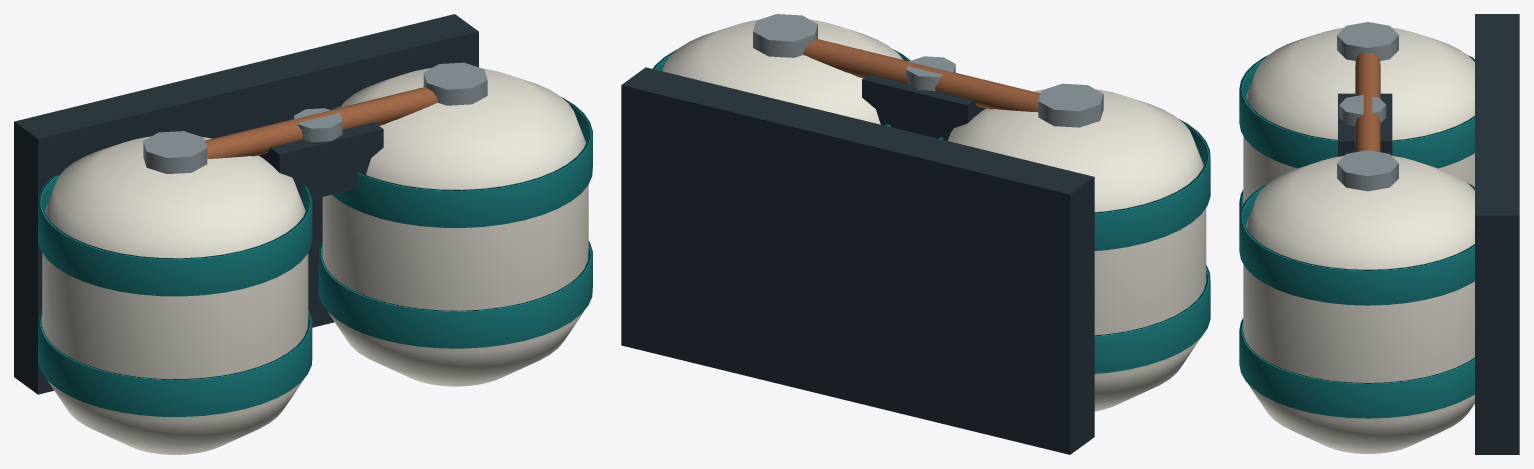
File: g_060_puls.glb
3 renders of one model, left to right at view 1: azimuth 30°, elevation 25°; view 2: azimuth 150°, elevation 25°; view 3: azimuth 270°, elevation 25°, orthographic. The views are drawn at different scales.
Parts seen in each view (by area): view 1: g_060_puls.vessel_01.mesh_JUGRE_·_bone_ceramic, g_060_puls.vessel_02.mesh_JUGRE_·_bone_ceramic, g_060_puls.mesh_JUGRE_·_graphite_composite, g_060_puls.vessel_01.mesh_JUGRE_·_signal_teal, g_060_puls.vessel_02.mesh_JUGRE_·_signal_teal, g_060_puls.mesh_JUGRE_·_heat-resistant_copper, g_060_puls.vessel_01.mesh_JUGRE_·_bead-blasted_titanium, g_060_puls.vessel_02.mesh_JUGRE_·_bead-blasted_titanium, g_060_puls.mesh_JUGRE_·_bead-blasted_titanium; view 2: g_060_puls.mesh_JUGRE_·_graphite_composite, g_060_puls.vessel_01.mesh_JUGRE_·_bone_ceramic, g_060_puls.vessel_02.mesh_JUGRE_·_bone_ceramic, g_060_puls.vessel_01.mesh_JUGRE_·_signal_teal, g_060_puls.mesh_JUGRE_·_heat-resistant_copper, g_060_puls.vessel_01.mesh_JUGRE_·_bead-blasted_titanium, g_060_puls.vessel_02.mesh_JUGRE_·_bead-blasted_titanium, g_060_puls.mesh_JUGRE_·_bead-blasted_titanium; view 3: g_060_puls.vessel_02.mesh_JUGRE_·_bone_ceramic, g_060_puls.mesh_JUGRE_·_graphite_composite, g_060_puls.vessel_01.mesh_JUGRE_·_bone_ceramic, g_060_puls.vessel_02.mesh_JUGRE_·_signal_teal, g_060_puls.vessel_01.mesh_JUGRE_·_signal_teal, g_060_puls.mesh_JUGRE_·_heat-resistant_copper, g_060_puls.vessel_02.mesh_JUGRE_·_bead-blasted_titanium, g_060_puls.vessel_01.mesh_JUGRE_·_bead-blasted_titanium, g_060_puls.mesh_JUGRE_·_bead-blasted_titanium.
Boxes of the visible parts, bbox=[...] form: g_060_puls.vessel_01.mesh_JUGRE_·_bone_ceramic: bbox=[42, 136, 308, 454]; g_060_puls.vessel_02.mesh_JUGRE_·_bone_ceramic: bbox=[322, 68, 588, 386]; g_060_puls.mesh_JUGRE_·_graphite_composite: bbox=[14, 14, 478, 394]; g_060_puls.vessel_01.mesh_JUGRE_·_signal_teal: bbox=[38, 175, 312, 416]; g_060_puls.vessel_02.mesh_JUGRE_·_signal_teal: bbox=[318, 97, 592, 348]; g_060_puls.mesh_JUGRE_·_heat-resistant_copper: bbox=[205, 87, 438, 158]; g_060_puls.vessel_01.mesh_JUGRE_·_bead-blasted_titanium: bbox=[143, 131, 207, 173]; g_060_puls.vessel_02.mesh_JUGRE_·_bead-blasted_titanium: bbox=[423, 62, 487, 105]; g_060_puls.mesh_JUGRE_·_bead-blasted_titanium: bbox=[294, 108, 342, 142]; g_060_puls.mesh_JUGRE_·_graphite_composite: bbox=[621, 67, 1094, 454]; g_060_puls.vessel_01.mesh_JUGRE_·_bone_ceramic: bbox=[947, 89, 1206, 411]; g_060_puls.vessel_02.mesh_JUGRE_·_bone_ceramic: bbox=[662, 19, 903, 124]; g_060_puls.vessel_01.mesh_JUGRE_·_signal_teal: bbox=[938, 119, 1210, 373]; g_060_puls.mesh_JUGRE_·_heat-resistant_copper: bbox=[803, 38, 1040, 112]; g_060_puls.vessel_01.mesh_JUGRE_·_bead-blasted_titanium: bbox=[1038, 83, 1103, 127]; g_060_puls.vessel_02.mesh_JUGRE_·_bead-blasted_titanium: bbox=[753, 14, 817, 57]; g_060_puls.mesh_JUGRE_·_bead-blasted_titanium: bbox=[906, 56, 955, 90]; g_060_puls.vessel_02.mesh_JUGRE_·_bone_ceramic: bbox=[1243, 156, 1474, 453]; g_060_puls.mesh_JUGRE_·_graphite_composite: bbox=[1338, 14, 1519, 454]; g_060_puls.vessel_01.mesh_JUGRE_·_bone_ceramic: bbox=[1243, 27, 1474, 203]; g_060_puls.vessel_02.mesh_JUGRE_·_signal_teal: bbox=[1239, 183, 1474, 418]; g_060_puls.vessel_01.mesh_JUGRE_·_signal_teal: bbox=[1239, 55, 1474, 215]; g_060_puls.mesh_JUGRE_·_heat-resistant_copper: bbox=[1355, 53, 1380, 152]; g_060_puls.vessel_02.mesh_JUGRE_·_bead-blasted_titanium: bbox=[1337, 150, 1398, 191]; g_060_puls.vessel_01.mesh_JUGRE_·_bead-blasted_titanium: bbox=[1337, 22, 1398, 60]; g_060_puls.mesh_JUGRE_·_bead-blasted_titanium: bbox=[1339, 95, 1386, 125].
Size of the model in its own units: 0.976 by 0.52 by 0.488.
